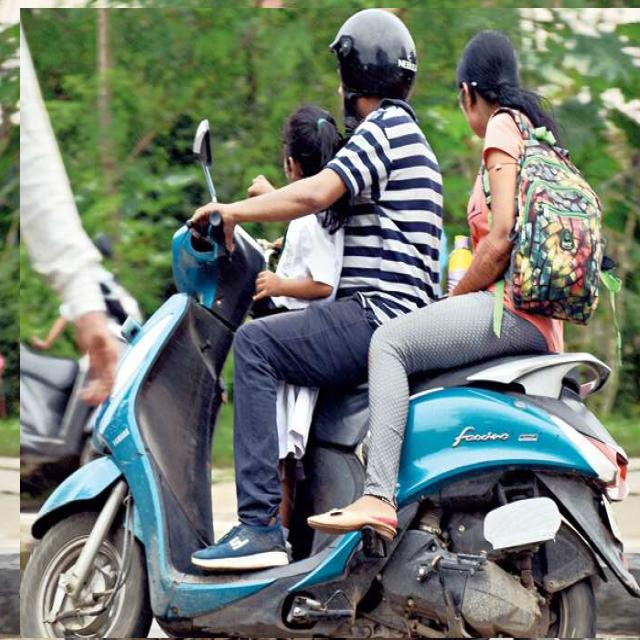motorcycle: (20, 8, 640, 638)
